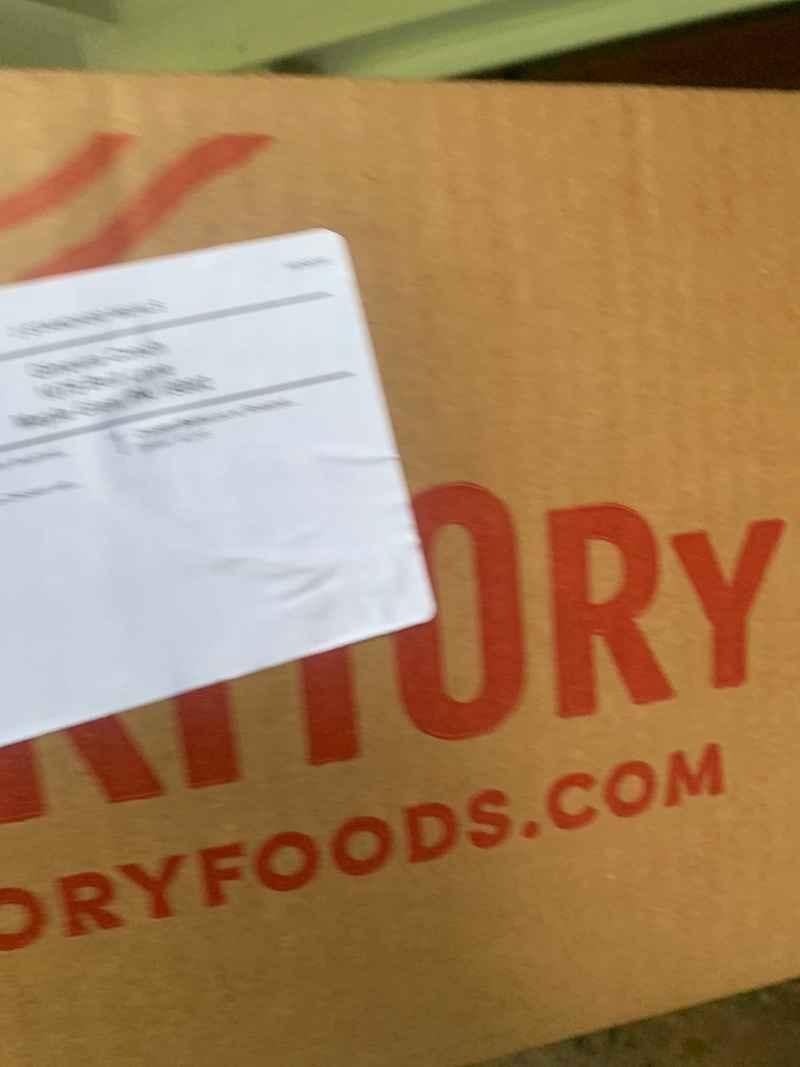package: (0, 56, 800, 1067)
